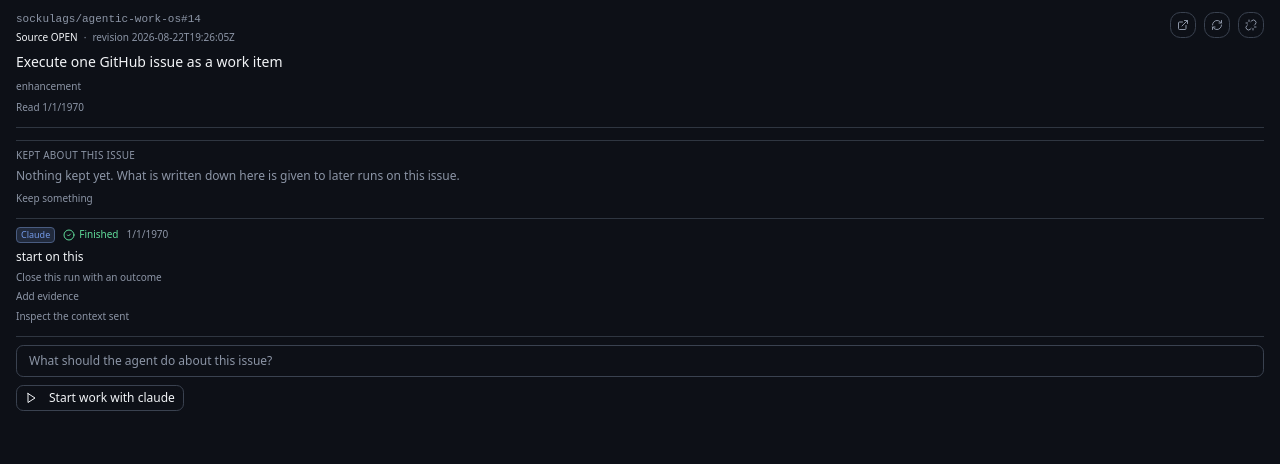
Scenario: WorkPanel › runs › the context sent is inspectable, which is the point of recording it
Expected: the text "the issue as it was" is not shown
Click the button "Inspect the context sent" at (72, 317), box x1=16 y1=310 x2=129 y2=324
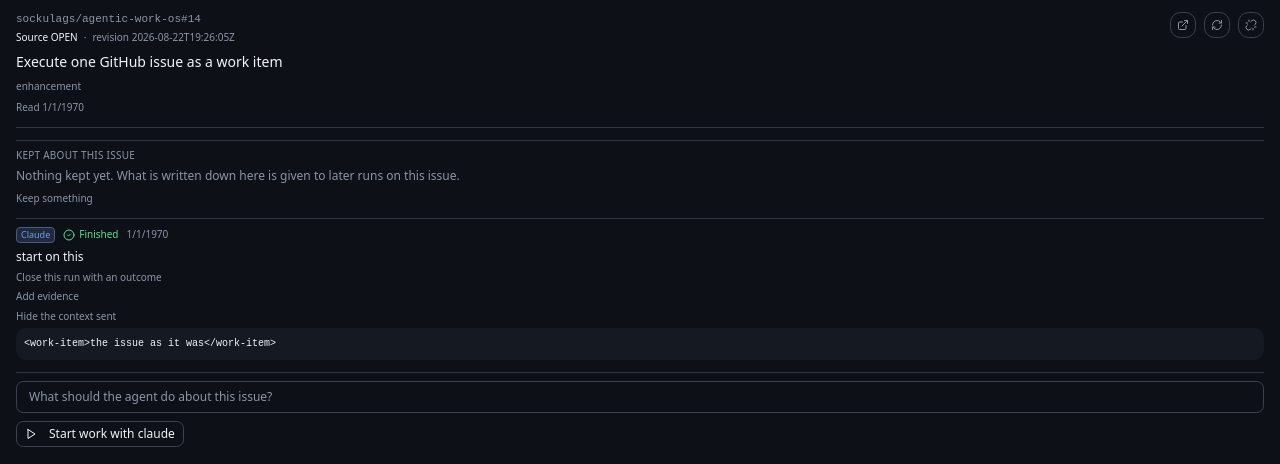
Result: the text "<work-item>the issue as it was</work-item>" is shown at x1=16 y1=328 x2=1264 y2=360
